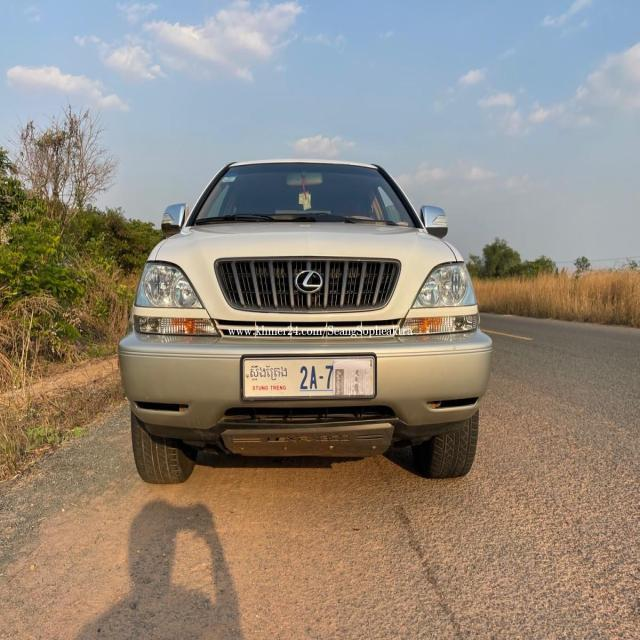Stung_Treng: (250, 364, 288, 382)
